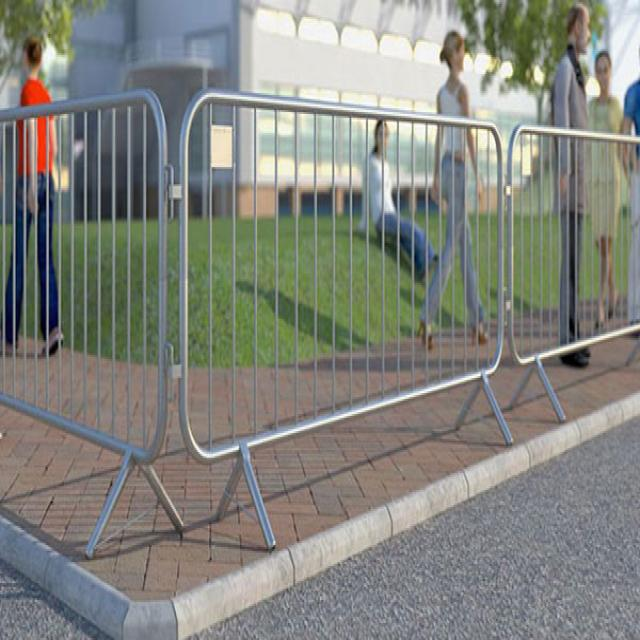cone: (0, 82, 638, 560)
